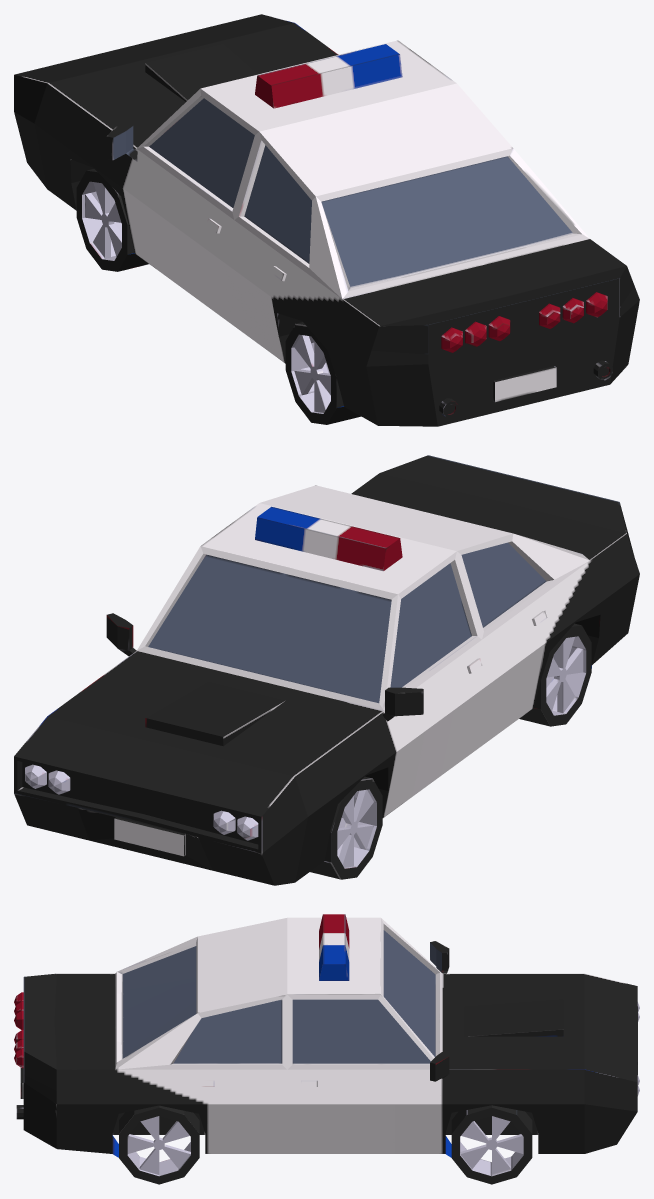
3 renders of one model, top to bottom at view 1: azimuth 30°, elevation 25°; view 2: azimuth 150°, elevation 25°; view 3: azimuth 270°, elevation 25°, orthographic. The views are drawn at different scales.
Visible parts, largest first — view 1: Police Muscle; view 2: Police Muscle; view 3: Police Muscle.
Boxes of the visible parts, box(x1,y1,x2,y2) form: Police Muscle: box(14, 14, 639, 426); Police Muscle: box(14, 455, 639, 885); Police Muscle: box(14, 914, 639, 1184).
Bounding box in the file's own units: 1.3 × 0.9655 × 2.8.
Materials: 1 (1 with a texture image).
